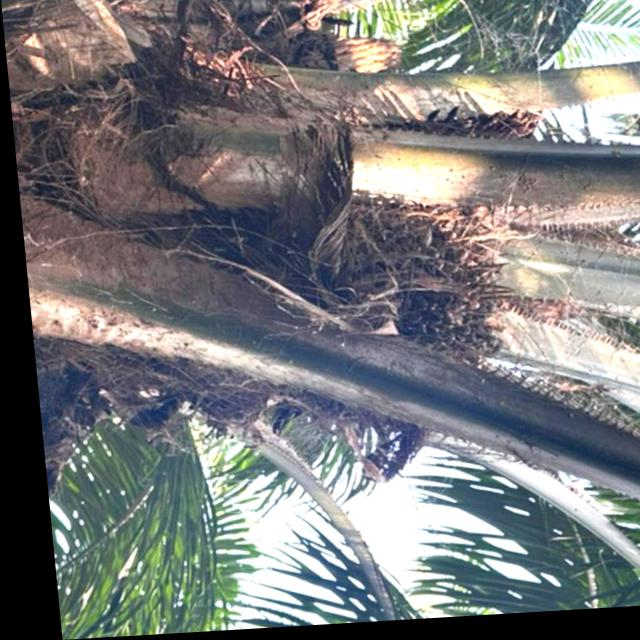unripe: (236, 201, 506, 450)
